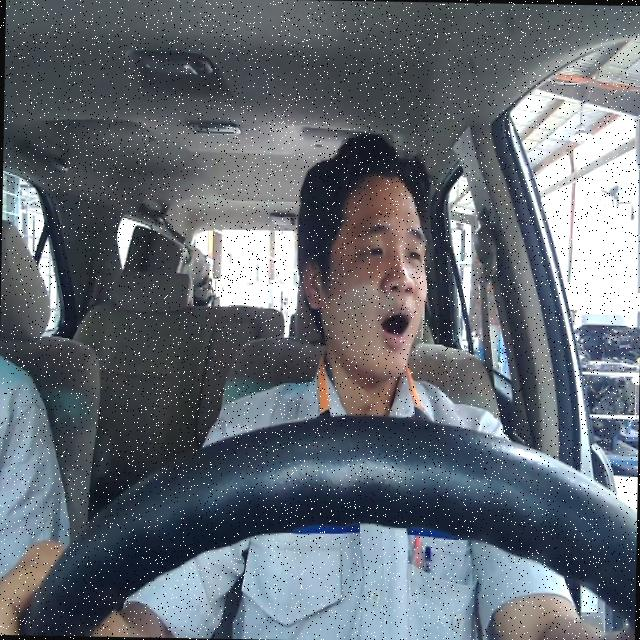yarning: (300, 173, 428, 380)
